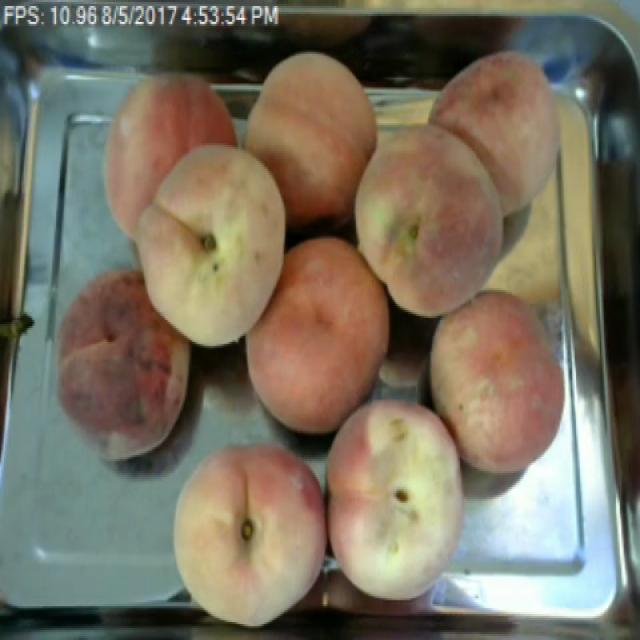Fruit: (123, 135, 300, 358), (336, 115, 517, 330), (31, 252, 205, 475), (232, 223, 405, 447), (424, 39, 611, 234), (324, 384, 481, 612), (159, 427, 329, 636), (413, 280, 580, 489), (240, 44, 389, 230)
